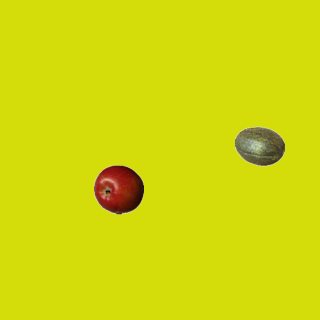Apple Braeburn: (93, 164, 143, 214)
Melon Piel de Sapo: (234, 121, 284, 171)
